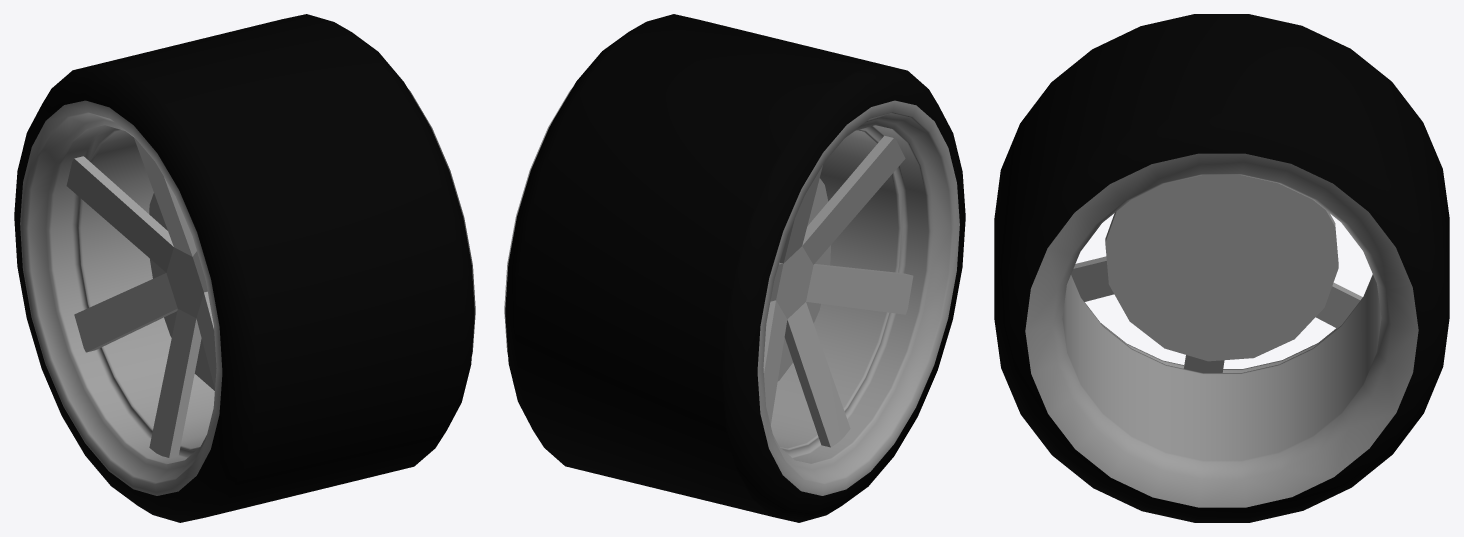
File: Car_4_Front_Right_Wheel.FBX
3 views of the same model, side by side, from view 1: azimuth 30°, elevation 25°; view 2: azimuth 150°, elevation 25°; view 3: azimuth 270°, elevation 25° (orthographic). The views are drawn at different scales.
Parts seen in each view (by area): view 1: Car_4_Rear_Right_Wheel; view 2: Car_4_Rear_Right_Wheel; view 3: Car_4_Rear_Right_Wheel.
Boxes of the visible parts, x1=… form: Car_4_Rear_Right_Wheel: x1=14, y1=14, x2=475, y2=522; Car_4_Rear_Right_Wheel: x1=504, y1=14, x2=965, y2=522; Car_4_Rear_Right_Wheel: x1=994, y1=14, x2=1449, y2=522.
Bounding box in the file's own units: 44.64 × 71.04 × 71.54.
